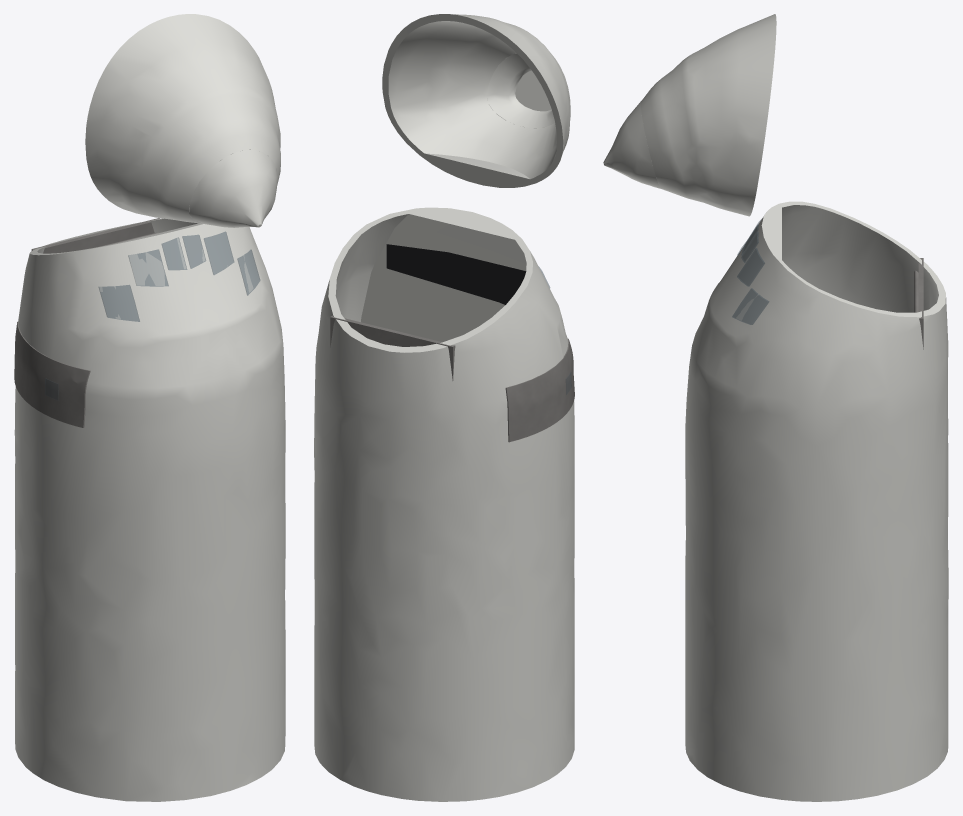
The model's file is cockpit03_airliner_flight_deck_open.glb.
3 renders of one model, left to right at view 1: azimuth 30°, elevation 25°; view 2: azimuth 150°, elevation 25°; view 3: azimuth 270°, elevation 25°, orthographic. The views are drawn at different scales.
Parts seen in each view (by area): view 1: fuselage, nose_visor, radome, flight_deck_windows, crew_door, cargo_floor_rollers; view 2: fuselage, nose_visor, flight_deck_floor, crew_door, radome, cargo_floor_rollers; view 3: fuselage, nose_visor, radome, flight_deck_windows.
Boxes of the visible parts, x1,y1,x2,y2 form: fuselage: (14, 218, 285, 801); nose_visor: (85, 14, 280, 223); radome: (189, 150, 277, 227); flight_deck_windows: (45, 231, 260, 400); crew_door: (14, 321, 90, 427); cargo_floor_rollers: (31, 218, 159, 253); fuselage: (314, 207, 574, 801); nose_visor: (382, 14, 570, 187); flight_deck_floor: (386, 244, 526, 304); crew_door: (505, 338, 574, 442); radome: (486, 53, 554, 128); cargo_floor_rollers: (330, 315, 455, 380); fuselage: (685, 201, 948, 801); nose_visor: (641, 14, 776, 216); radome: (603, 101, 660, 188); flight_deck_windows: (732, 219, 769, 324).
Bounding box in the file's own units: 3.76 × 11.37 × 4.92.
Materials: 4 (1 with a texture image).
